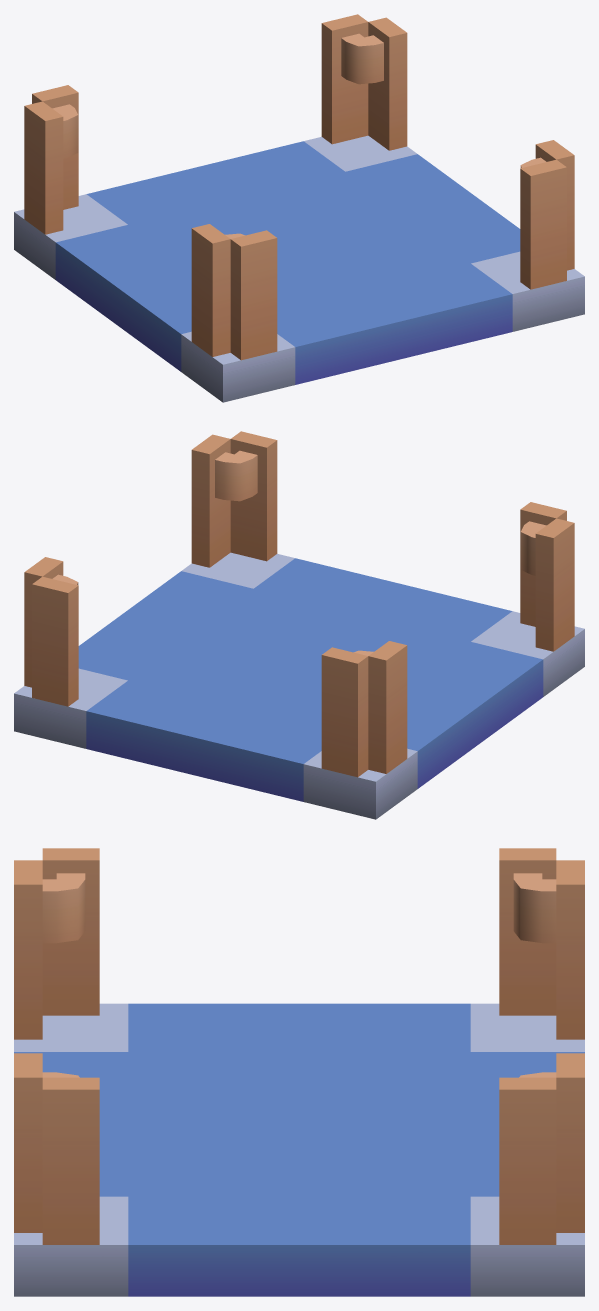
The model's file is kenney-coaster-queue-crossing.glb.
3 views of the same model, one above another, from view 1: azimuth 30°, elevation 25°; view 2: azimuth 150°, elevation 25°; view 3: azimuth 270°, elevation 25° (orthographic). The views are drawn at different scales.
Parts seen in each view (by area): view 1: queue-crossing; view 2: queue-crossing; view 3: queue-crossing.
Boxes of the visible parts, x1,y1,x2,y2 form: queue-crossing: [14, 14, 584, 402]; queue-crossing: [14, 431, 584, 819]; queue-crossing: [14, 848, 584, 1296].
Size of the model in its own units: 1 by 0.3999 by 1.
Materials: 1 (1 with a texture image).
